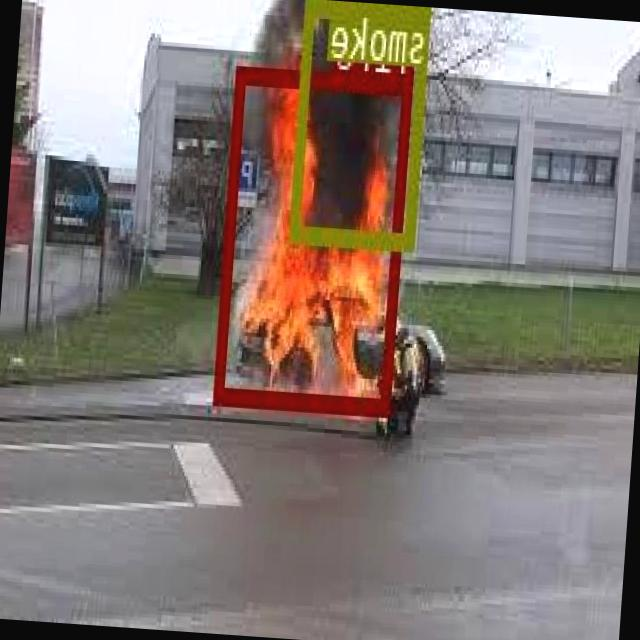fire: (216, 62, 414, 412)
smoke: (292, 0, 432, 245)
